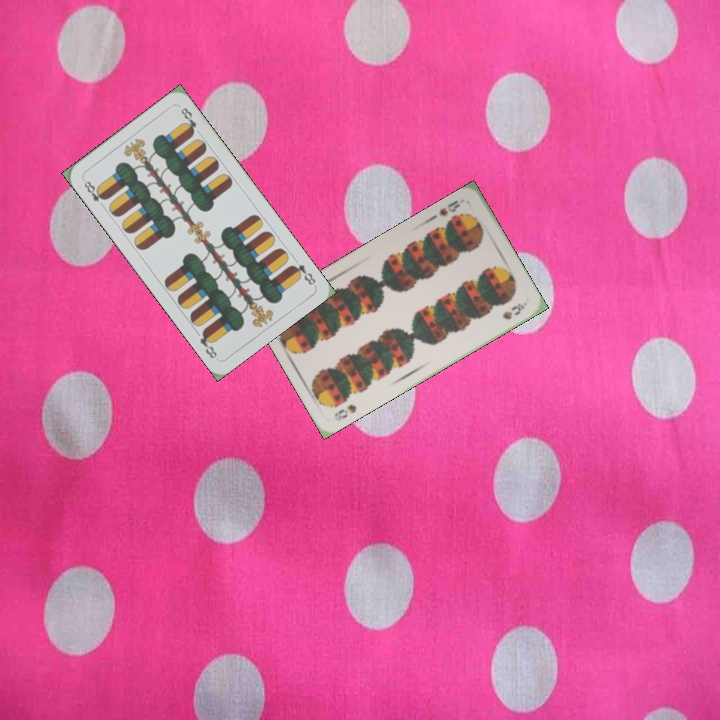E8: (79, 175, 109, 211), (286, 260, 318, 288)
S8: (435, 195, 467, 219), (330, 400, 359, 424)
